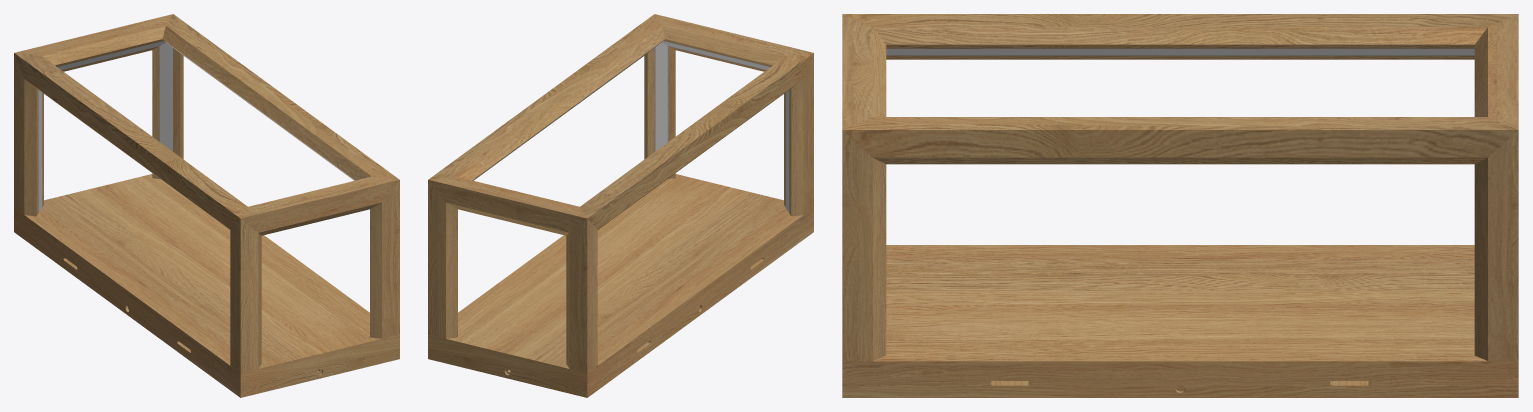
The picture shows the model from 3 angles, left to right: view 1: azimuth 30°, elevation 25°; view 2: azimuth 150°, elevation 25°; view 3: azimuth 270°, elevation 25°; orthographic projection. The views are drawn at different scales.
Visible parts, largest first — view 1: Cube_Cube.001, PROTO.006_Cube.026, PROTO.002_Cube.026, PROTO.008_Cube.031, PROTO.005_Cube.030, PROTO.004_Cube.031, PROTO.007_Cube.031, PROTO.001_Cube.030, PROTO.003_Cube.031, Cube.023_Cube.063, Cube.021_Cube.061, Cube.016_Cube.056; view 2: Cube_Cube.001, PROTO.006_Cube.026, PROTO.002_Cube.026, PROTO.007_Cube.031, PROTO.001_Cube.030, PROTO.003_Cube.031, PROTO.008_Cube.031, PROTO.005_Cube.030, PROTO.004_Cube.031, Cube.018_Cube.058, Cube.019_Cube.059, Cube.012_Cube.051; view 3: Cube_Cube.001, PROTO.002_Cube.026, PROTO.006_Cube.026, PROTO.003_Cube.031, PROTO.004_Cube.031, PROTO.001_Cube.030, PROTO.005_Cube.030, Cube.014_Cube.054, Cube.013_Cube.053.
Part boxes in pixels (x1=…): Cube_Cube.001: x1=14, y1=174, x2=399, y2=397; PROTO.006_Cube.026: x1=14, y1=53, x2=247, y2=229; PROTO.002_Cube.026: x1=162, y1=14, x2=398, y2=180; PROTO.008_Cube.031: x1=230, y1=218, x2=261, y2=373; PROTO.005_Cube.030: x1=241, y1=176, x2=399, y2=235; PROTO.004_Cube.031: x1=370, y1=180, x2=399, y2=338; PROTO.007_Cube.031: x1=14, y1=53, x2=43, y2=216; PROTO.001_Cube.030: x1=14, y1=14, x2=172, y2=71; PROTO.003_Cube.031: x1=152, y1=46, x2=183, y2=178; Cube.023_Cube.063: x1=160, y1=42, x2=172, y2=150; Cube.021_Cube.061: x1=38, y1=90, x2=41, y2=212; Cube.016_Cube.056: x1=58, y1=41, x2=165, y2=69; Cube_Cube.001: x1=428, y1=174, x2=813, y2=397; PROTO.006_Cube.026: x1=580, y1=53, x2=813, y2=229; PROTO.002_Cube.026: x1=429, y1=14, x2=665, y2=180; PROTO.007_Cube.031: x1=566, y1=218, x2=597, y2=373; PROTO.001_Cube.030: x1=428, y1=176, x2=586, y2=235; PROTO.003_Cube.031: x1=428, y1=180, x2=457, y2=338; PROTO.008_Cube.031: x1=784, y1=53, x2=813, y2=216; PROTO.005_Cube.030: x1=655, y1=14, x2=813, y2=71; PROTO.004_Cube.031: x1=644, y1=46, x2=675, y2=178; Cube.018_Cube.058: x1=655, y1=42, x2=667, y2=150; Cube.019_Cube.059: x1=786, y1=90, x2=789, y2=212; Cube.012_Cube.051: x1=662, y1=41, x2=769, y2=69; Cube_Cube.001: x1=842, y1=245, x2=1518, y2=397; PROTO.002_Cube.026: x1=842, y1=117, x2=1518, y2=164; PROTO.006_Cube.026: x1=843, y1=14, x2=1517, y2=59; PROTO.003_Cube.031: x1=1474, y1=130, x2=1518, y2=361; PROTO.004_Cube.031: x1=842, y1=130, x2=886, y2=361; PROTO.001_Cube.030: x1=1474, y1=14, x2=1518, y2=129; PROTO.005_Cube.030: x1=842, y1=14, x2=886, y2=129; Cube.014_Cube.054: x1=886, y1=49, x2=1474, y2=55; Cube.013_Cube.053: x1=886, y1=48, x2=1474, y2=55.
Bounding box in the file's own units: 20.3 × 21.85 × 50.
